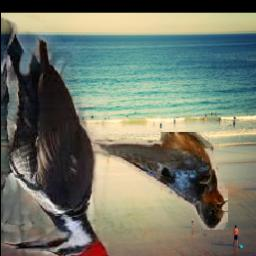Swallow: (83, 132, 228, 230)
Woodpecker: (1, 15, 109, 256)
